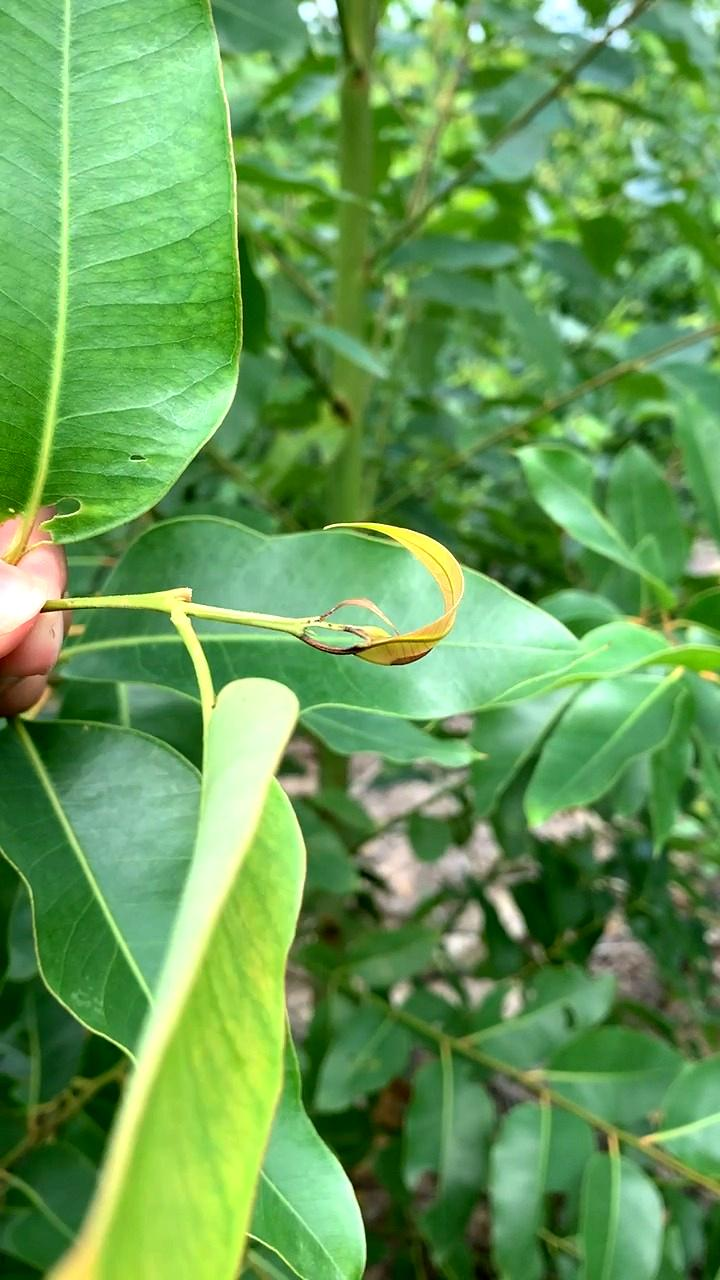Helopeltis-Withered Sprout: (299, 506, 493, 693)
